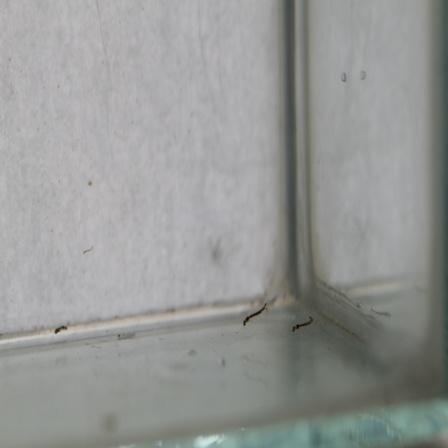Jentik-Nyamuk: (240, 298, 269, 330), (289, 315, 317, 335), (52, 323, 71, 337)
